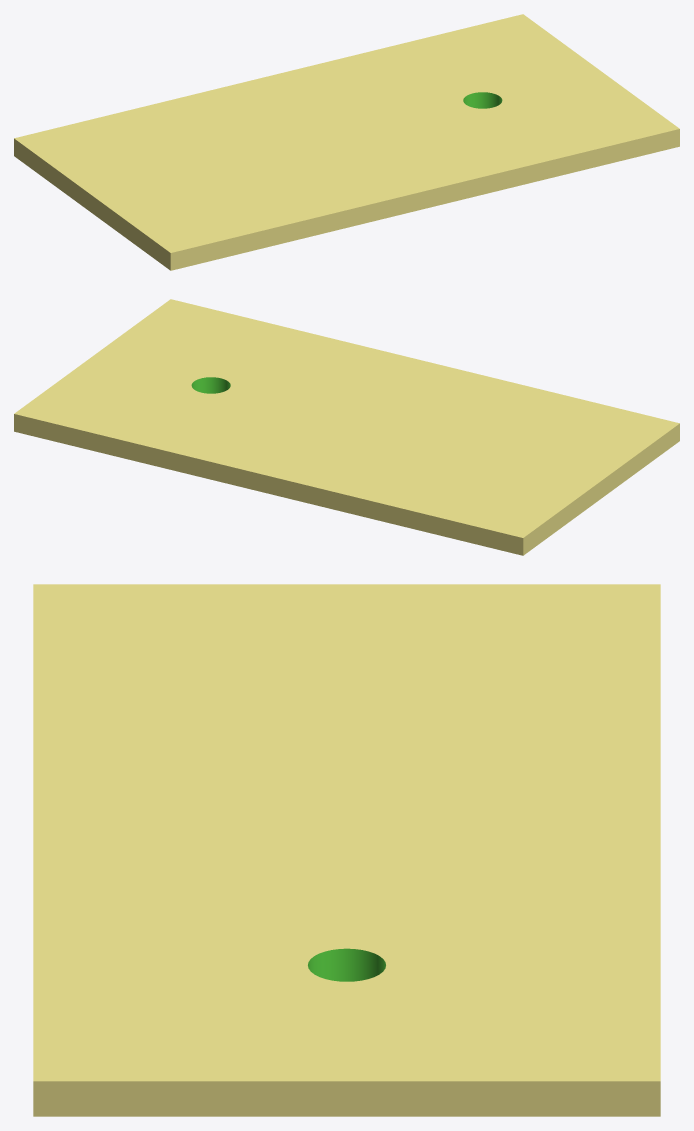
File: Board1 (2).fbx
3 renders of one model, top to bottom at view 1: azimuth 30°, elevation 25°; view 2: azimuth 150°, elevation 25°; view 3: azimuth 270°, elevation 25°, orthographic. The views are drawn at different scales.
Parts seen in each view (by area): view 1: Cylinder.001; view 2: Cylinder.001; view 3: Cylinder.001.
Boxes of the visible parts, x1,y1,x2,y2 form: Cylinder.001: (14, 14, 679, 270); Cylinder.001: (14, 299, 679, 555); Cylinder.001: (33, 584, 660, 1116).
Bounding box in the file's own units: 3000 × 159 × 1600.
